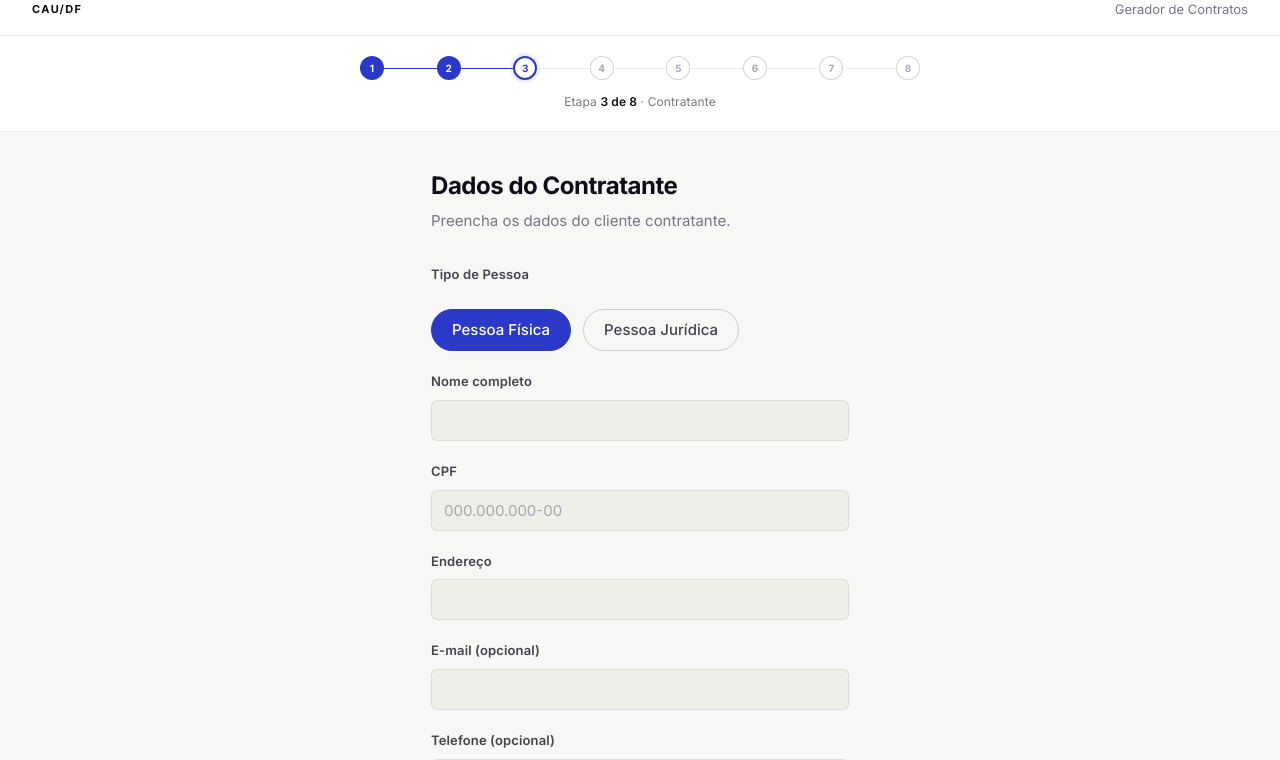
ClientFormPage › selecting PJ shows razao_social and nome_representante_legal fields
Click the radio button labelled "Pessoa Jurídica". click: (661, 330)
box: [583, 309, 739, 351]
(page scrolled)
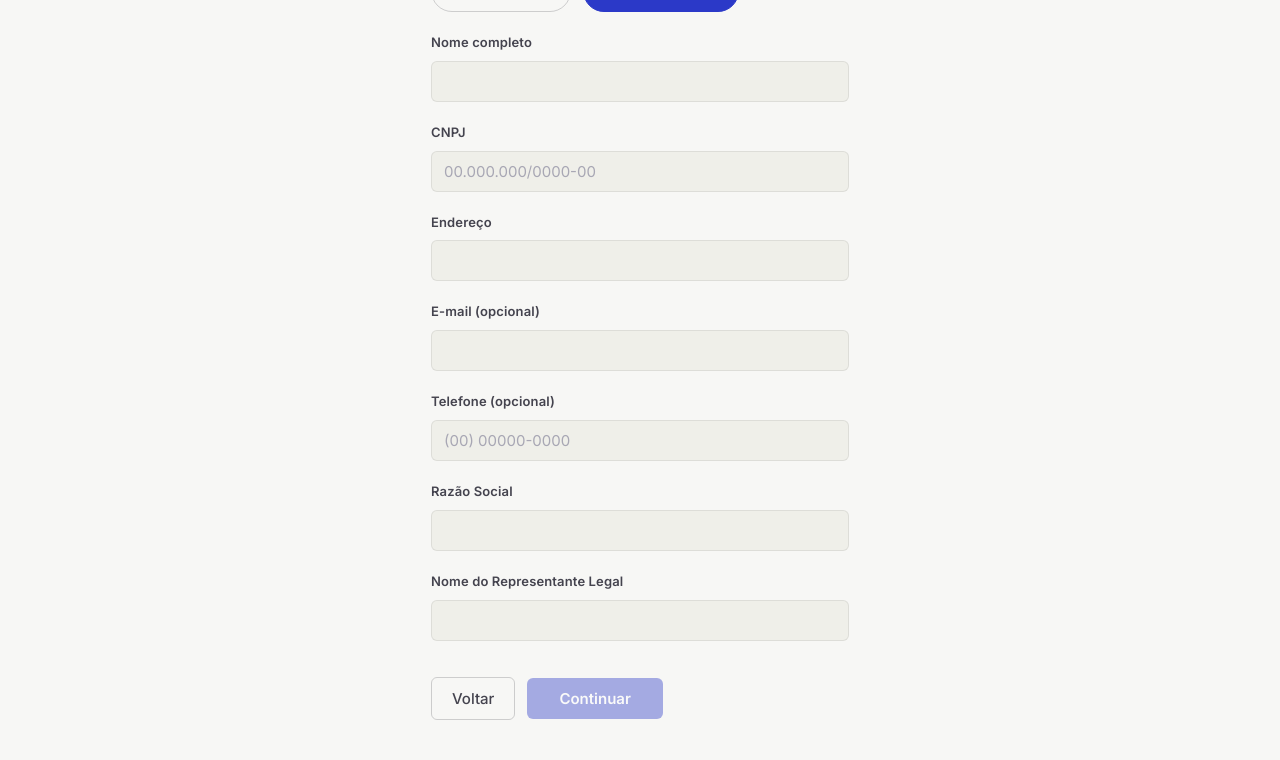
Result: the field labelled "Razão Social" is shown at [431, 510, 849, 551]
Result: the field labelled "Nome do Representante Legal" is shown at [431, 600, 849, 641]
